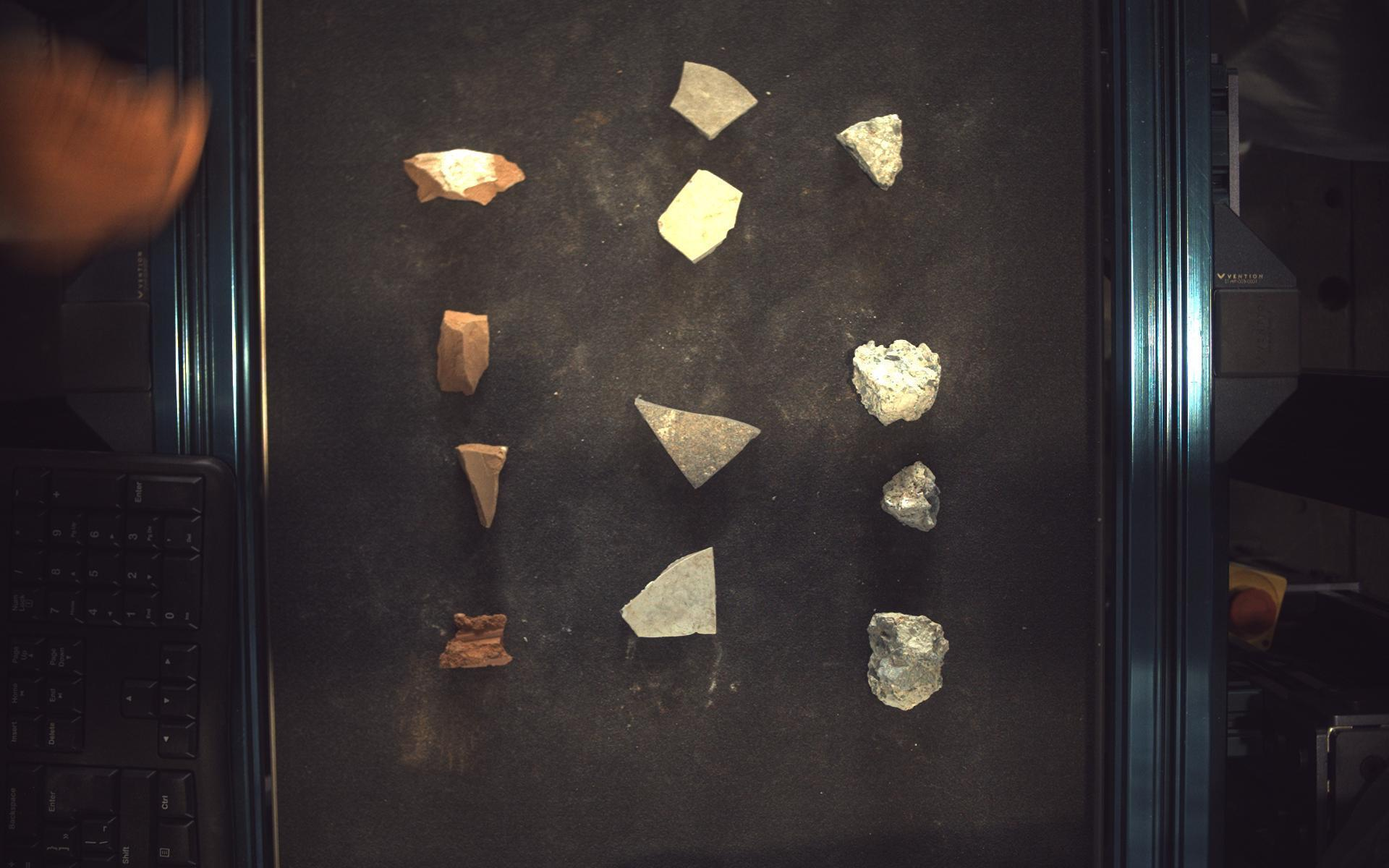brick: (404, 148, 525, 204), (437, 310, 490, 396), (456, 443, 508, 528), (440, 614, 513, 669)
concrete: (870, 613, 951, 712), (854, 339, 943, 425), (838, 113, 904, 189), (883, 461, 942, 532)
tile: (635, 396, 762, 488), (623, 549, 718, 639), (659, 169, 744, 262), (671, 60, 759, 137)
